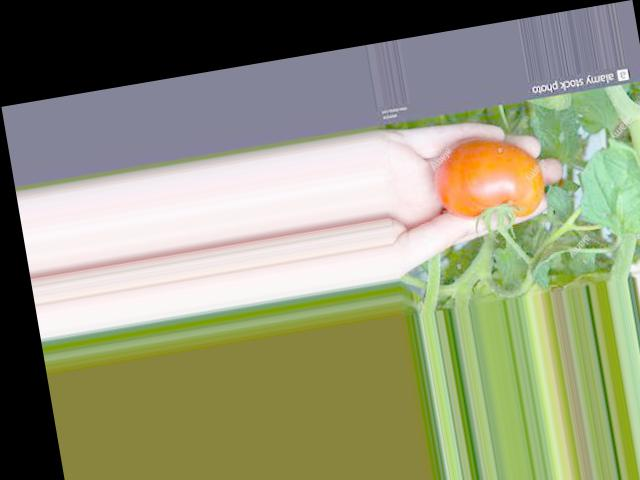tomato: (427, 130, 548, 229)
